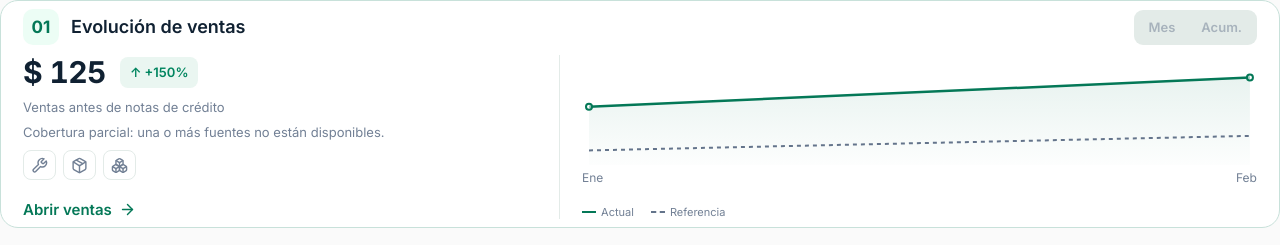
filters Otros and restores the combined authorized total
The width and height of the screenshot is (1280, 245).
Click the button named "Filtrar ventas de otros" at (120, 165), box [103,150,136,180]
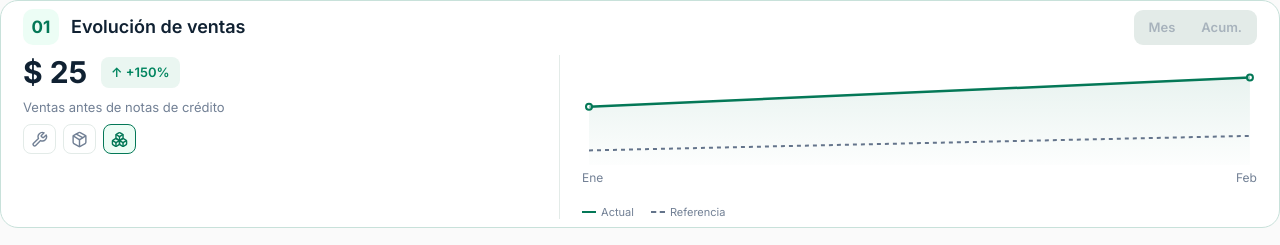
expect the text "$ 25" is shown: met, box [23,55,87,90]
Click the button named "Filtrar ventas de otros" at (120, 139), box [103,124,136,154]
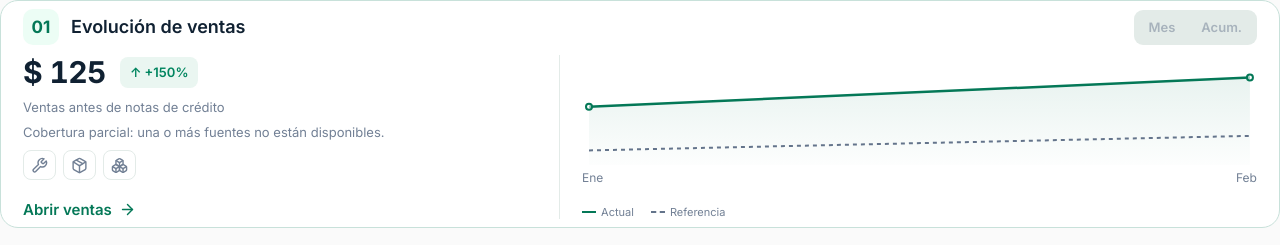
expect the text "$ 125" is shown: met, box [23,55,106,90]
